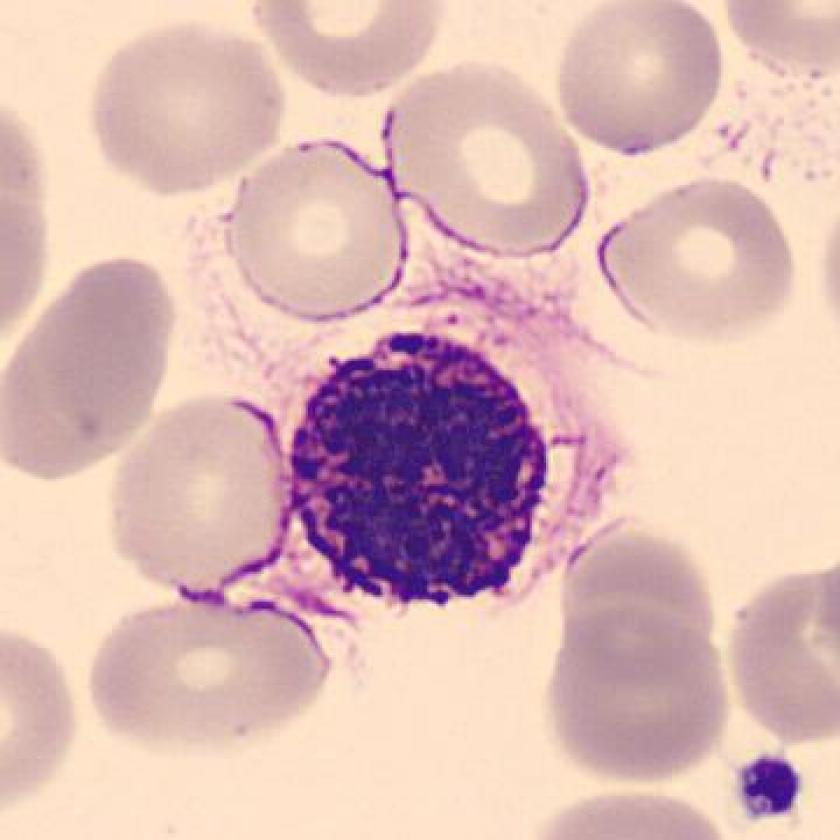basophil: (279, 325, 563, 617)
